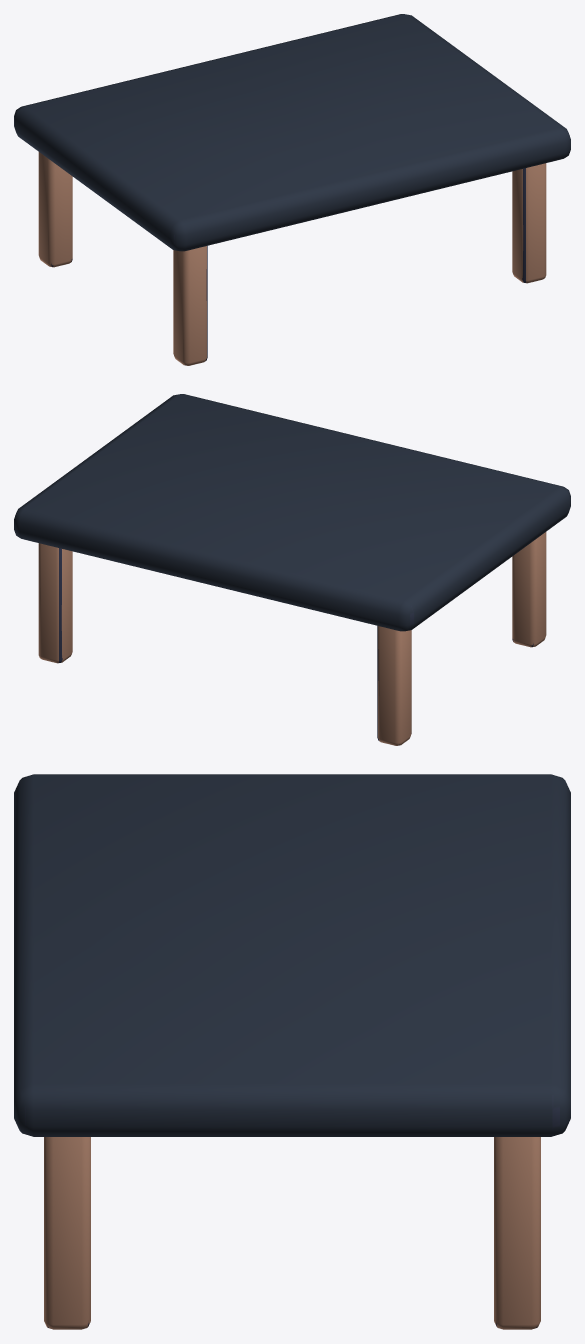
The model's file is table.fbx.
3 renders of one model, top to bottom at view 1: azimuth 30°, elevation 25°; view 2: azimuth 150°, elevation 25°; view 3: azimuth 270°, elevation 25°, orthographic. The views are drawn at different scales.
Parts seen in each view (by area): view 1: table, table_legs; view 2: table, table_legs; view 3: table, table_legs.
Part boxes in pixels (left/top/right/bottom): table: left=14, top=14, right=570, bottom=251; table_legs: left=38, top=152, right=546, bottom=365; table: left=14, top=394, right=570, bottom=631; table_legs: left=38, top=532, right=546, bottom=745; table: left=14, top=774, right=570, bottom=1136; table_legs: left=44, top=1137, right=540, bottom=1329.
Bounding box in the file's own units: 196 × 71.77 × 142.
Materials: 1 (1 with a texture image).
